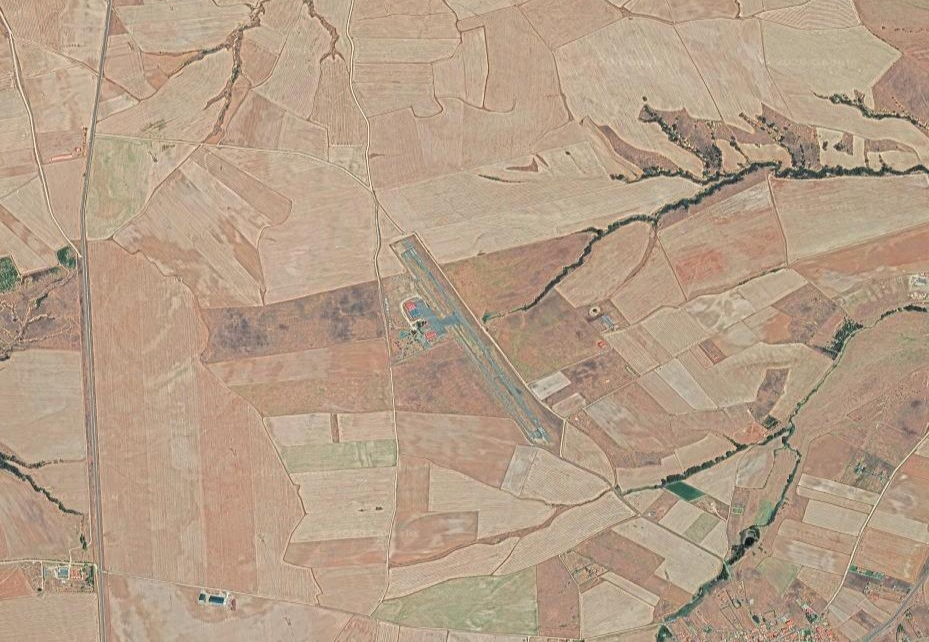airport: (396, 242, 555, 446)
motorway: (89, 1, 114, 118), (76, 116, 97, 214), (92, 535, 111, 642), (87, 427, 106, 534), (83, 321, 102, 428), (77, 216, 96, 323), (859, 610, 897, 642), (893, 577, 929, 610)
